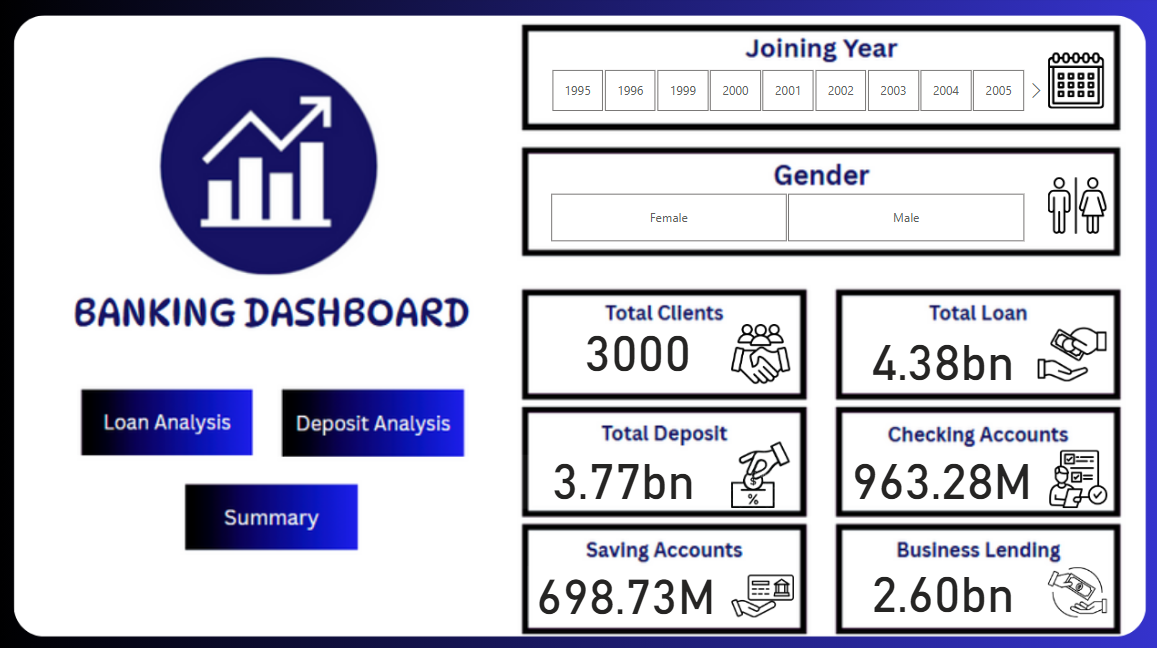

Layout of this report page (visuals, bound fields, positions):
{"tool":"powerbi","page":{"name":"Home","canvas":[1280,720],"ordinal":0},"visuals":[{"type":"card","fields":{"Values":["banking-clients.Name"]},"box":[607.9,348.5,193.5,74.1],"z":0},{"type":"slicer","fields":{"Values":["banking-clients.GenderId"]},"box":[583.2,209.9,569.5,65.9],"z":1000},{"type":"card","fields":{"Values":["banking-clients.Total Loan"]},"box":[931.7,370.5,215.4,63.1],"z":2000},{"type":"card","fields":{"Values":["banking-clients.Total Deposit"]},"box":[576.3,503.6,225,59],"z":3000},{"type":"card","fields":{"Values":["banking-clients.Checking Accounts"]},"box":[929,503.6,218.2,59],"z":4000},{"type":"card","fields":{"Values":["banking-clients.Saving Accounts"]},"box":[583.2,625.7,218.2,60.4],"z":5000},{"type":"card","fields":{"Values":["banking-clients.Business Lending"]},"box":[953.7,625.7,171.5,63.1],"z":6000},{"type":"slicer","fields":{"Values":["banking-clients.Joining Year"]},"box":[584.6,74.1,568.1,59],"z":7000},{"type":"actionButton","box":[94.7,433.6,185.2,70],"z":8000},{"type":"actionButton","box":[312.9,433.6,201.7,70],"z":9000},{"type":"actionButton","box":[205.8,533.8,193.5,74.1],"z":10000}]}

Visuals, with their boxes in screenshot pixels (x1, y1, x2, y2), scaled from the page's 1280x720 canvas onto the 1157x648 screenshot:
card - banking-clients.Name: l=549, t=314, r=724, b=380
slicer - banking-clients.GenderId: l=527, t=189, r=1042, b=248
card - banking-clients.Total Loan: l=842, t=333, r=1037, b=390
card - banking-clients.Total Deposit: l=521, t=453, r=724, b=506
card - banking-clients.Checking Accounts: l=840, t=453, r=1037, b=506
card - banking-clients.Saving Accounts: l=527, t=563, r=724, b=617
card - banking-clients.Business Lending: l=862, t=563, r=1017, b=620
slicer - banking-clients.Joining Year: l=528, t=67, r=1042, b=120
actionButton: l=86, t=390, r=253, b=453
actionButton: l=283, t=390, r=465, b=453
actionButton: l=186, t=480, r=361, b=547
